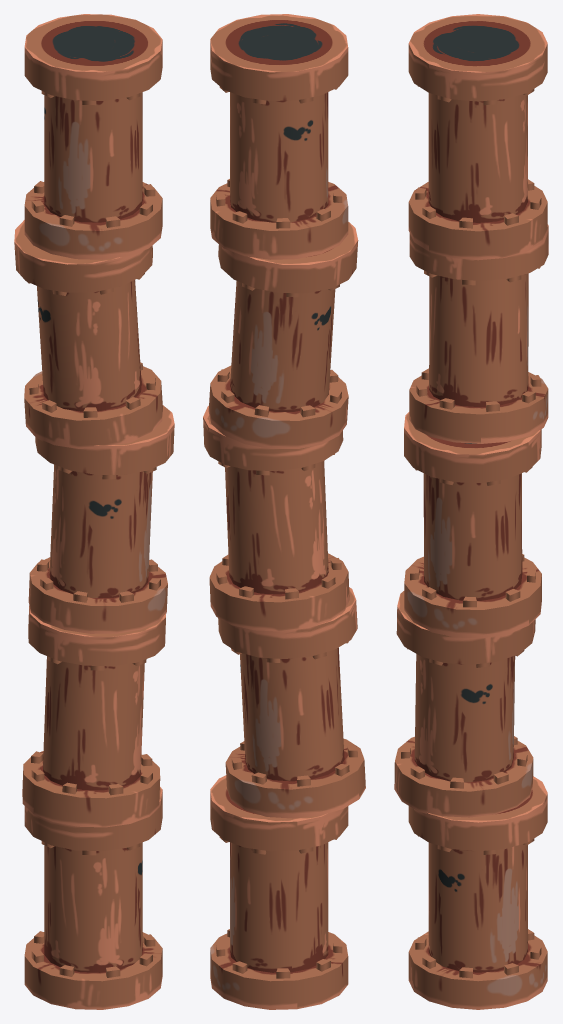
File: Pipe2Segment1.glb
The picture shows the model from 3 angles, left to right: view 1: azimuth 30°, elevation 25°; view 2: azimuth 150°, elevation 25°; view 3: azimuth 270°, elevation 25°; orthographic projection.
Visible parts, largest first — view 1: Pipe2Segment1; view 2: Pipe2Segment1; view 3: Pipe2Segment1.
Part boxes in pixels (x1=…): Pipe2Segment1: x1=14, y1=14, x2=174, y2=1009; Pipe2Segment1: x1=203, y1=14, x2=365, y2=1009; Pipe2Segment1: x1=394, y1=14, x2=548, y2=1009.
Size of the model in its own units: 2.33 by 15 by 2.24.
Materials: 1 (1 with a texture image).
